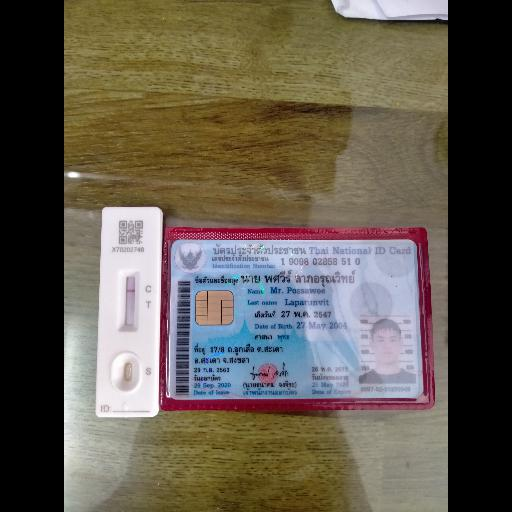Neg: (98, 206, 160, 418)
